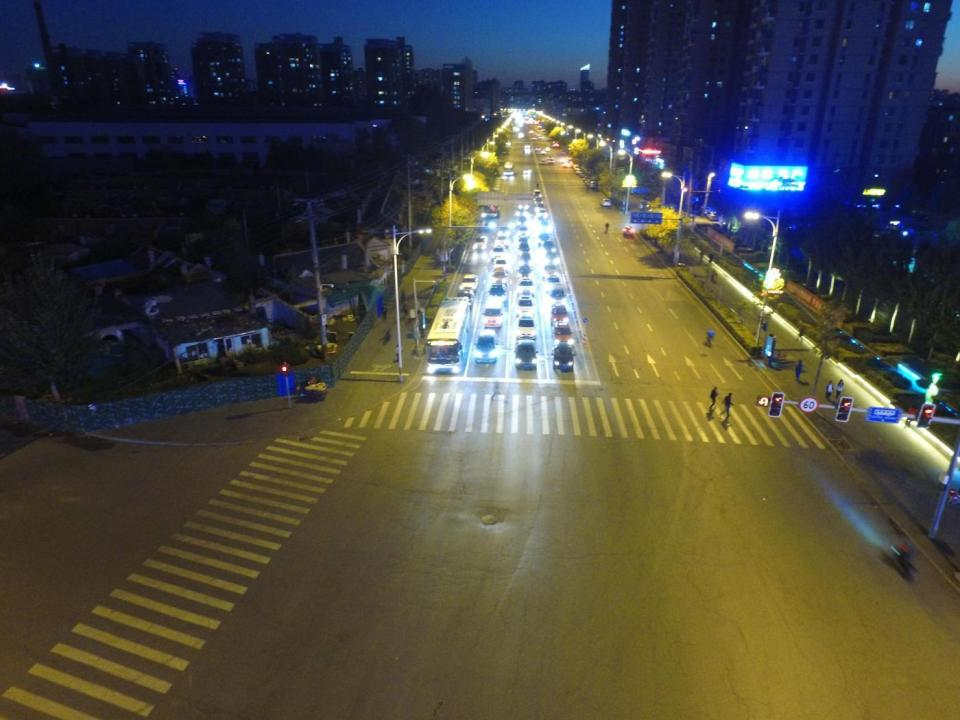bus: (422, 296, 470, 376), (499, 160, 515, 178), (550, 140, 560, 148)
car: (473, 330, 499, 365), (513, 312, 540, 342), (549, 344, 578, 371), (514, 338, 539, 369), (550, 319, 579, 345), (516, 274, 538, 297), (516, 294, 538, 316), (548, 300, 568, 323), (542, 272, 564, 292), (489, 264, 509, 285), (537, 229, 557, 249), (515, 231, 536, 250), (453, 287, 475, 305), (489, 282, 510, 300), (482, 200, 501, 219), (547, 284, 568, 301), (541, 260, 560, 278), (541, 251, 560, 268), (462, 273, 478, 293), (492, 254, 508, 273), (472, 233, 488, 251), (516, 262, 534, 278), (540, 238, 556, 256), (515, 250, 532, 266), (689, 196, 704, 210), (492, 242, 504, 259), (518, 241, 534, 253), (622, 223, 635, 237), (700, 204, 714, 217), (498, 236, 514, 247), (516, 216, 528, 228), (706, 210, 719, 221), (518, 225, 531, 236), (498, 226, 511, 237), (515, 208, 528, 219), (600, 197, 612, 208), (539, 220, 551, 231), (517, 202, 530, 212), (537, 210, 548, 221), (534, 201, 545, 212), (533, 195, 544, 205), (533, 188, 542, 198), (589, 179, 597, 189), (521, 142, 532, 148), (524, 166, 532, 174), (562, 162, 571, 169), (522, 148, 532, 154), (559, 155, 567, 162), (559, 149, 566, 156), (517, 130, 524, 137), (504, 140, 511, 147), (540, 158, 546, 166), (539, 150, 547, 156), (583, 176, 591, 182), (579, 172, 587, 178), (545, 145, 551, 152), (584, 178, 591, 184), (534, 146, 542, 151), (547, 155, 554, 160), (573, 165, 580, 170), (571, 162, 578, 167), (568, 158, 575, 163), (568, 155, 575, 160), (568, 160, 576, 164), (548, 160, 555, 164), (529, 129, 534, 134), (576, 168, 581, 173), (532, 136, 537, 140), (539, 135, 543, 139), (535, 134, 540, 136)
van: (479, 296, 506, 328)
